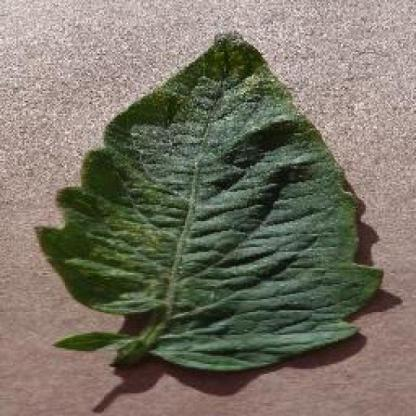Tomato_Spider_Mites: (43, 32, 383, 366)
